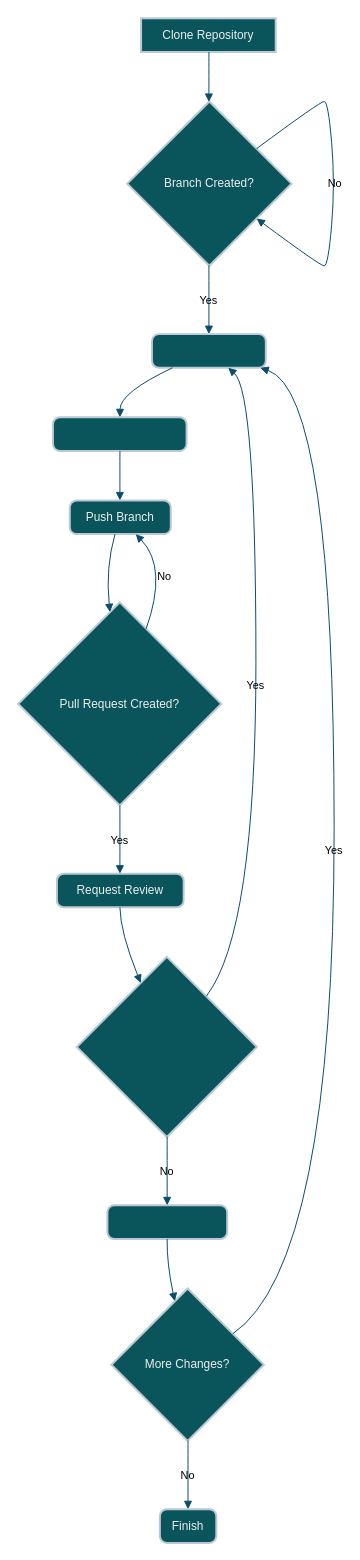
This 360x1560 diagram has some shape labels left out. Each missing label, with the box of its shape:
Changes Required?: (75, 955, 257, 1138)
Commit Changes: (51, 416, 187, 451)
Merge Request: (106, 1204, 228, 1239)
Work on Code: (150, 333, 266, 368)
